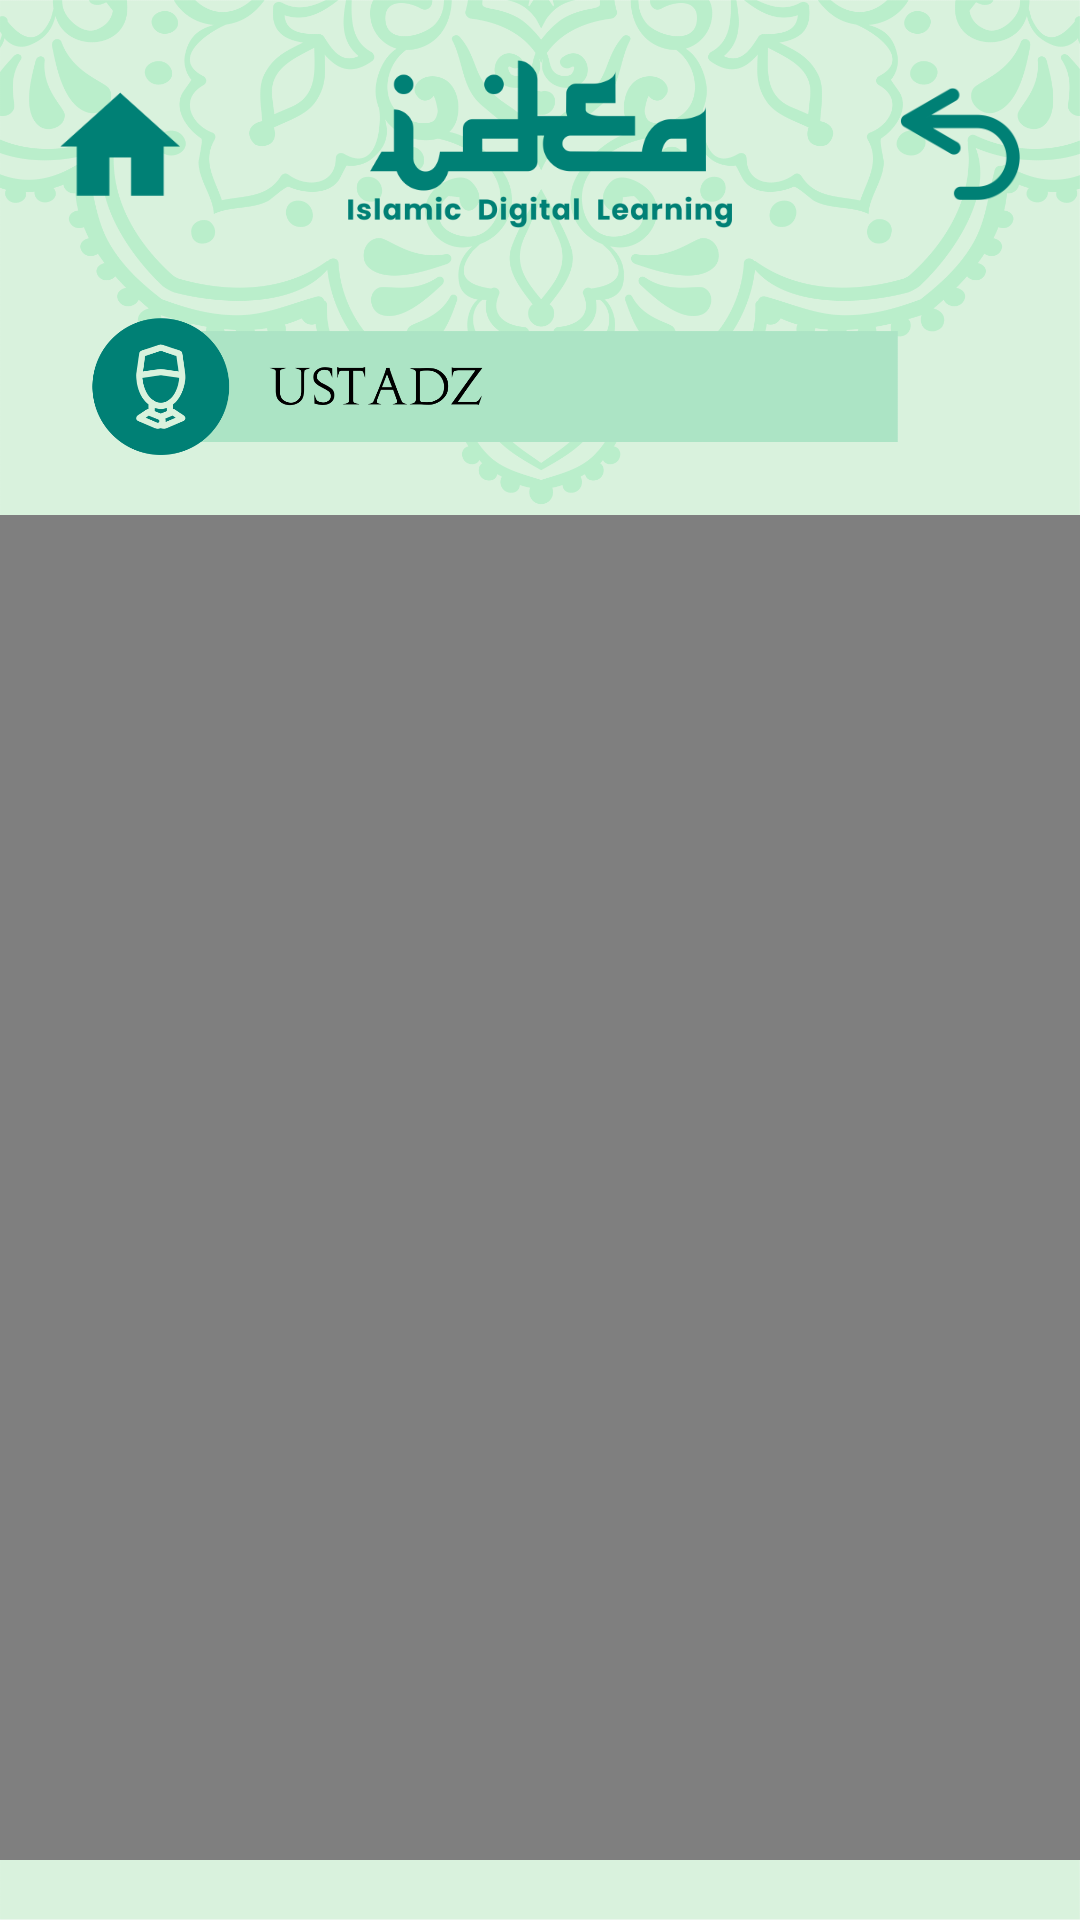

Where icons sit on this 1080×1920 app screen, as (x1, y1, x2, y2):
back: (900, 84, 1020, 204)
home: (60, 84, 180, 204)
